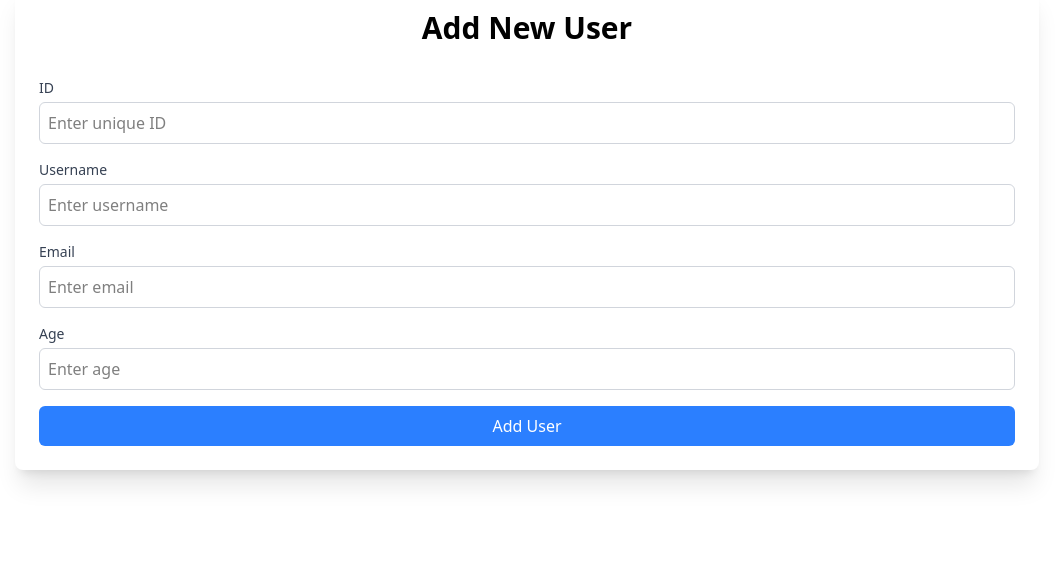
Test case: AddUser component › submits form successfully
Step 1. Type "123" into the field labelled "ID" → (527, 123), box [39, 102, 1015, 144]
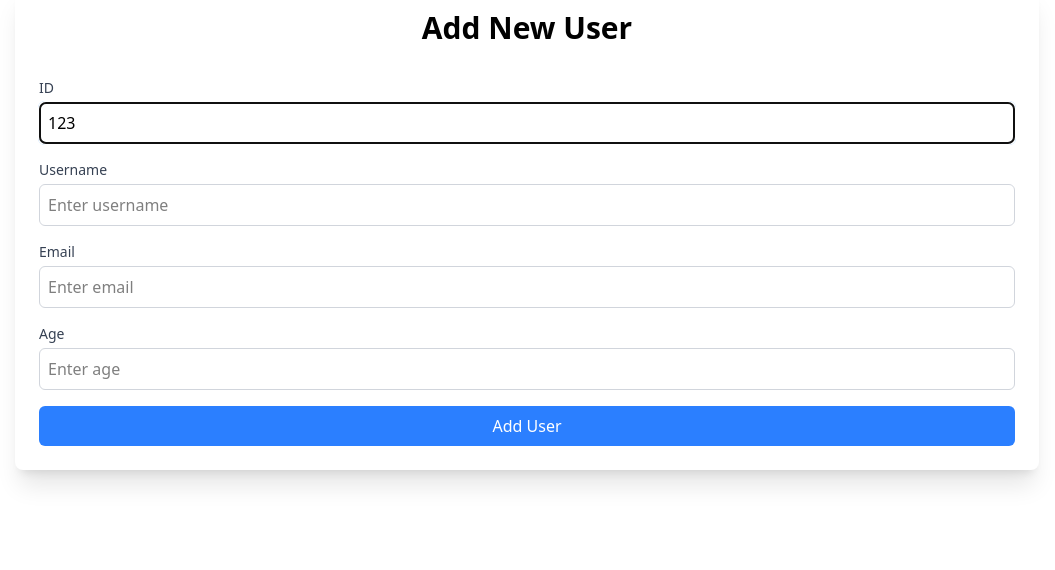
Step 2. Type "Tuhin" into the field labelled "Username" → (527, 205), box [39, 184, 1015, 226]
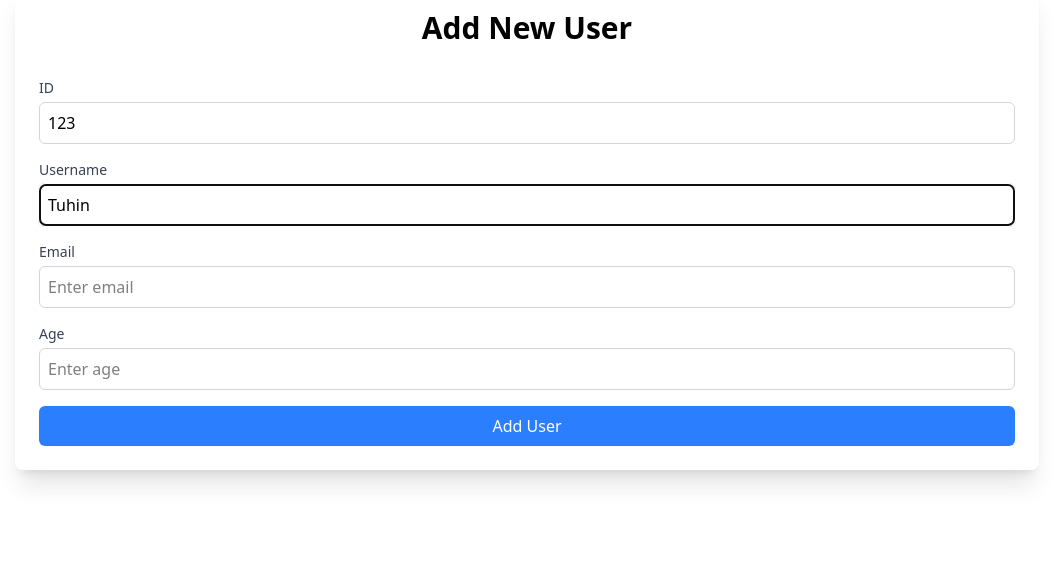
Step 3. Type "tuhghgin@gmail.com" into the field labelled "Email" → (527, 287), box [39, 266, 1015, 308]
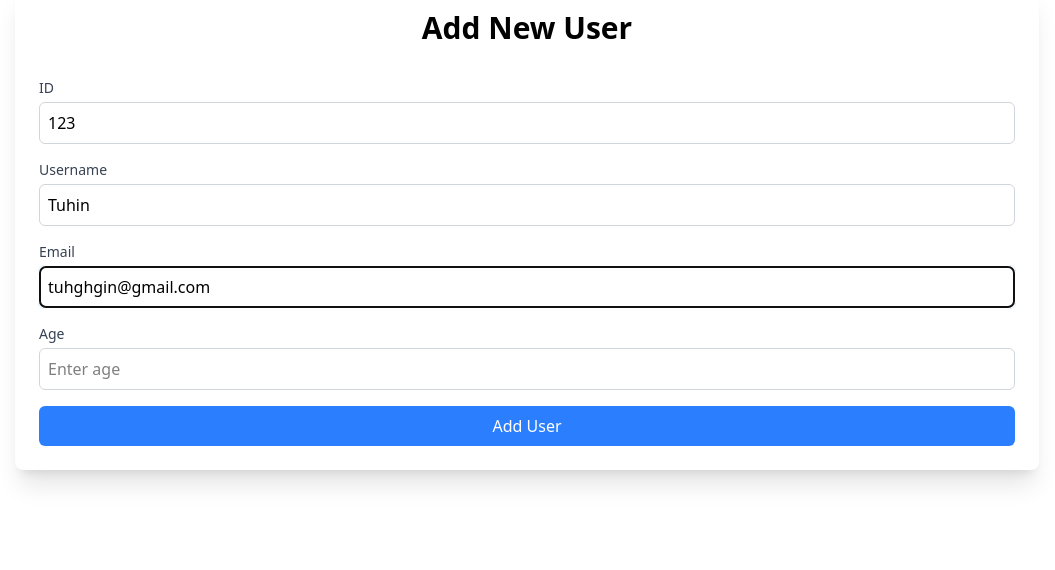
Step 4. Type "30" into the number field labelled "Age" → (527, 369), box [39, 348, 1015, 390]
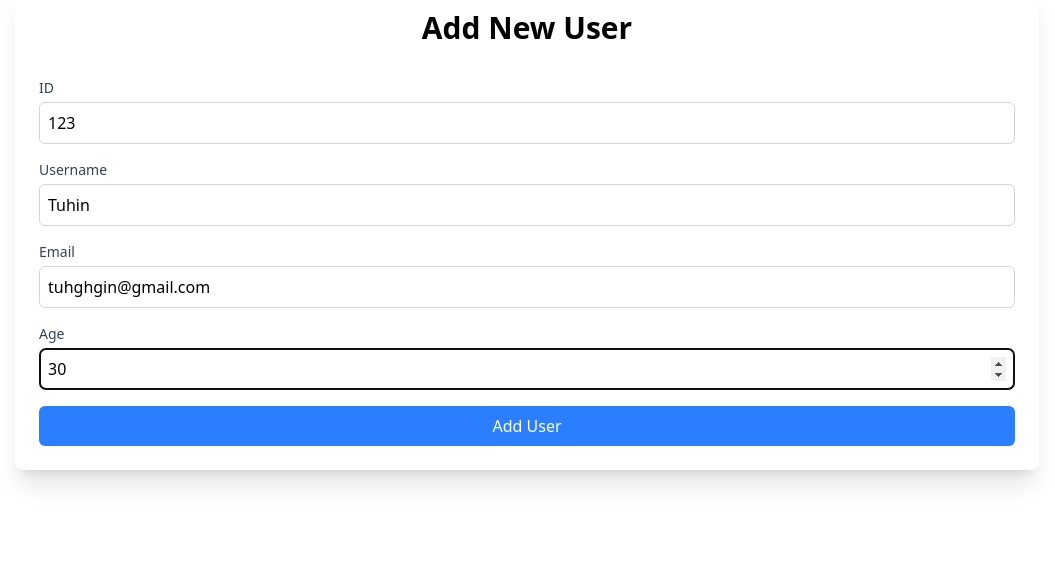
Step 5. Click the button "Add User" → (527, 426), box [39, 406, 1015, 446]
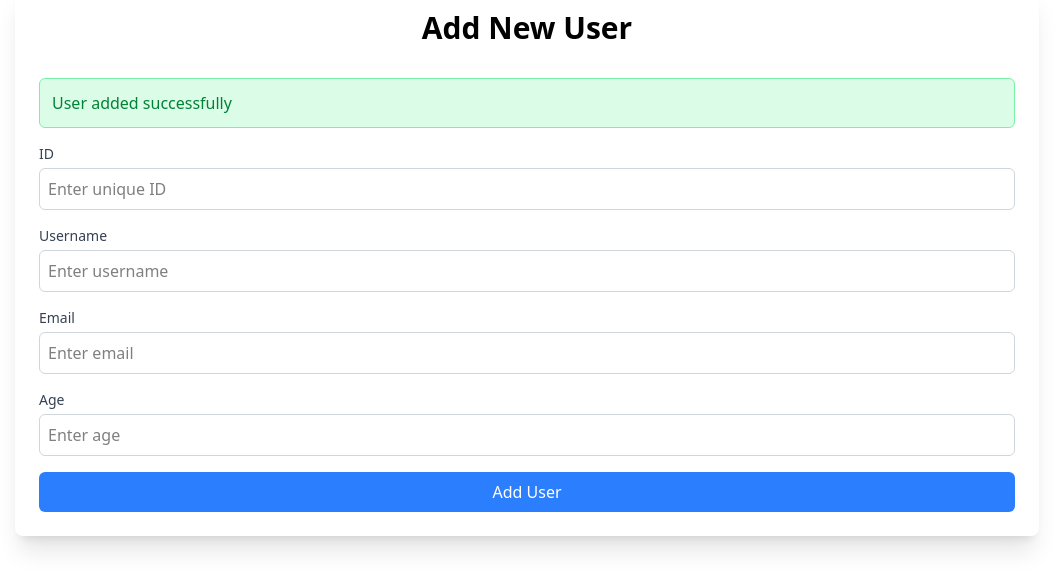
expect the text "User added successfully" is shown: met, box [39, 78, 1015, 128]
